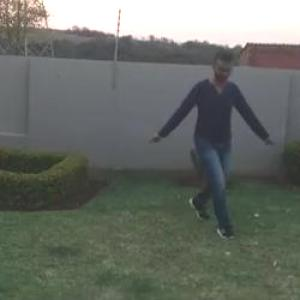land: (158, 46, 278, 223)
